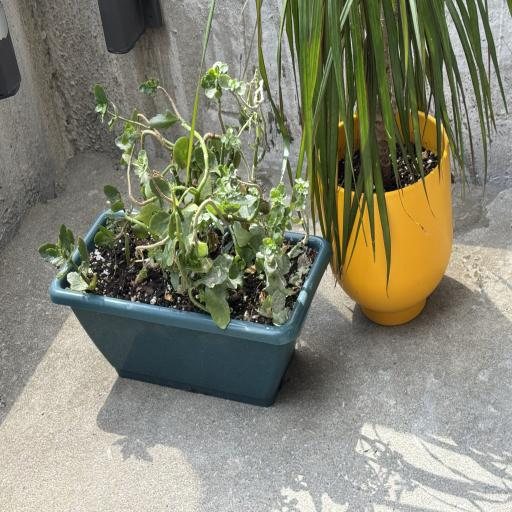Plant Pot: (316, 106, 454, 326)
